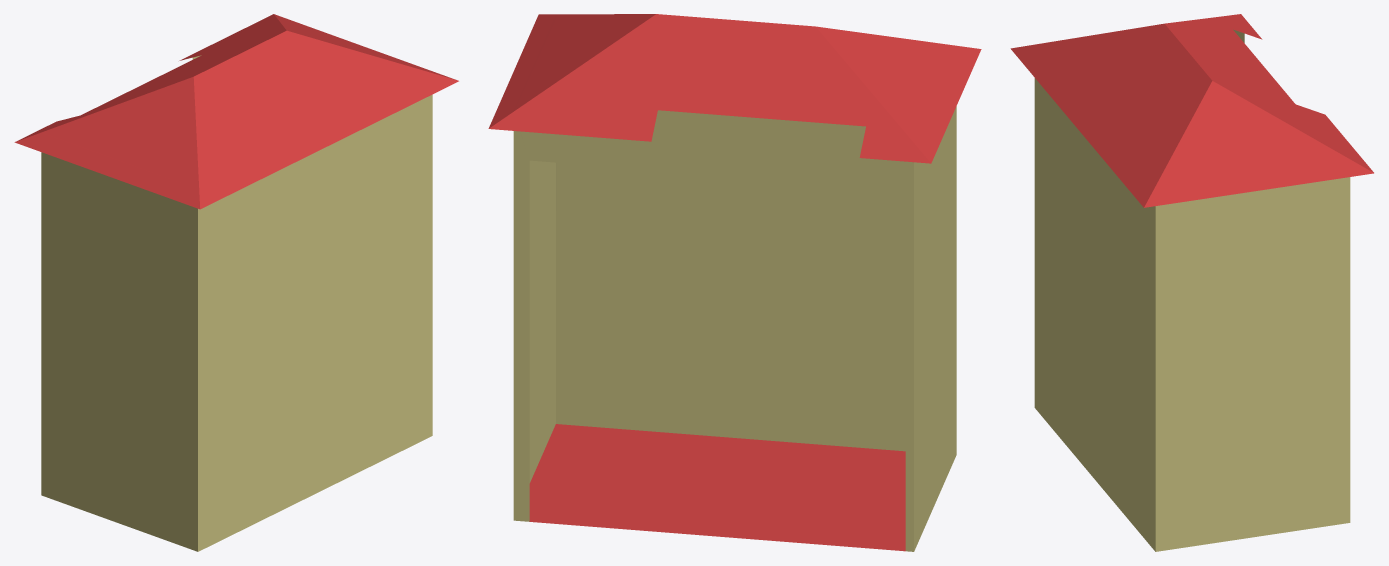
3 views of the same model, side by side, from view 1: azimuth 30°, elevation 25°; view 2: azimuth 150°, elevation 25°; view 3: azimuth 270°, elevation 25° (orthographic). The views are drawn at different scales.
Parts seen in each view (by area): view 1: group_5, group_3; view 2: group_5, group_3, group_6, group_4; view 3: group_5, group_3.
Part boxes in pixels (bbox=[...]): group_5: bbox=[41, 55, 432, 551]; group_3: bbox=[14, 14, 458, 209]; group_5: bbox=[513, 106, 956, 551]; group_3: bbox=[488, 14, 981, 163]; group_6: bbox=[529, 424, 905, 551]; group_4: bbox=[517, 112, 930, 163]; group_5: bbox=[1034, 29, 1350, 551]; group_3: bbox=[1010, 14, 1373, 207].
Bounding box in the file's own units: 18.02 × 14.31 × 17.93.
